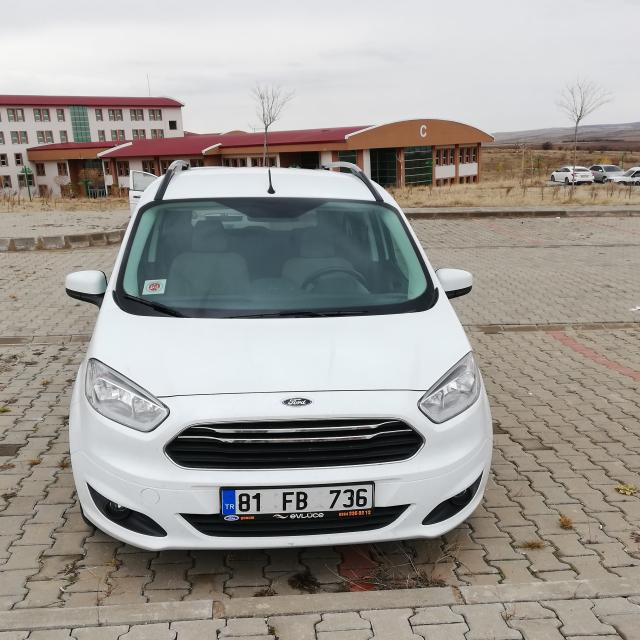license_plate: (218, 482, 376, 512)
